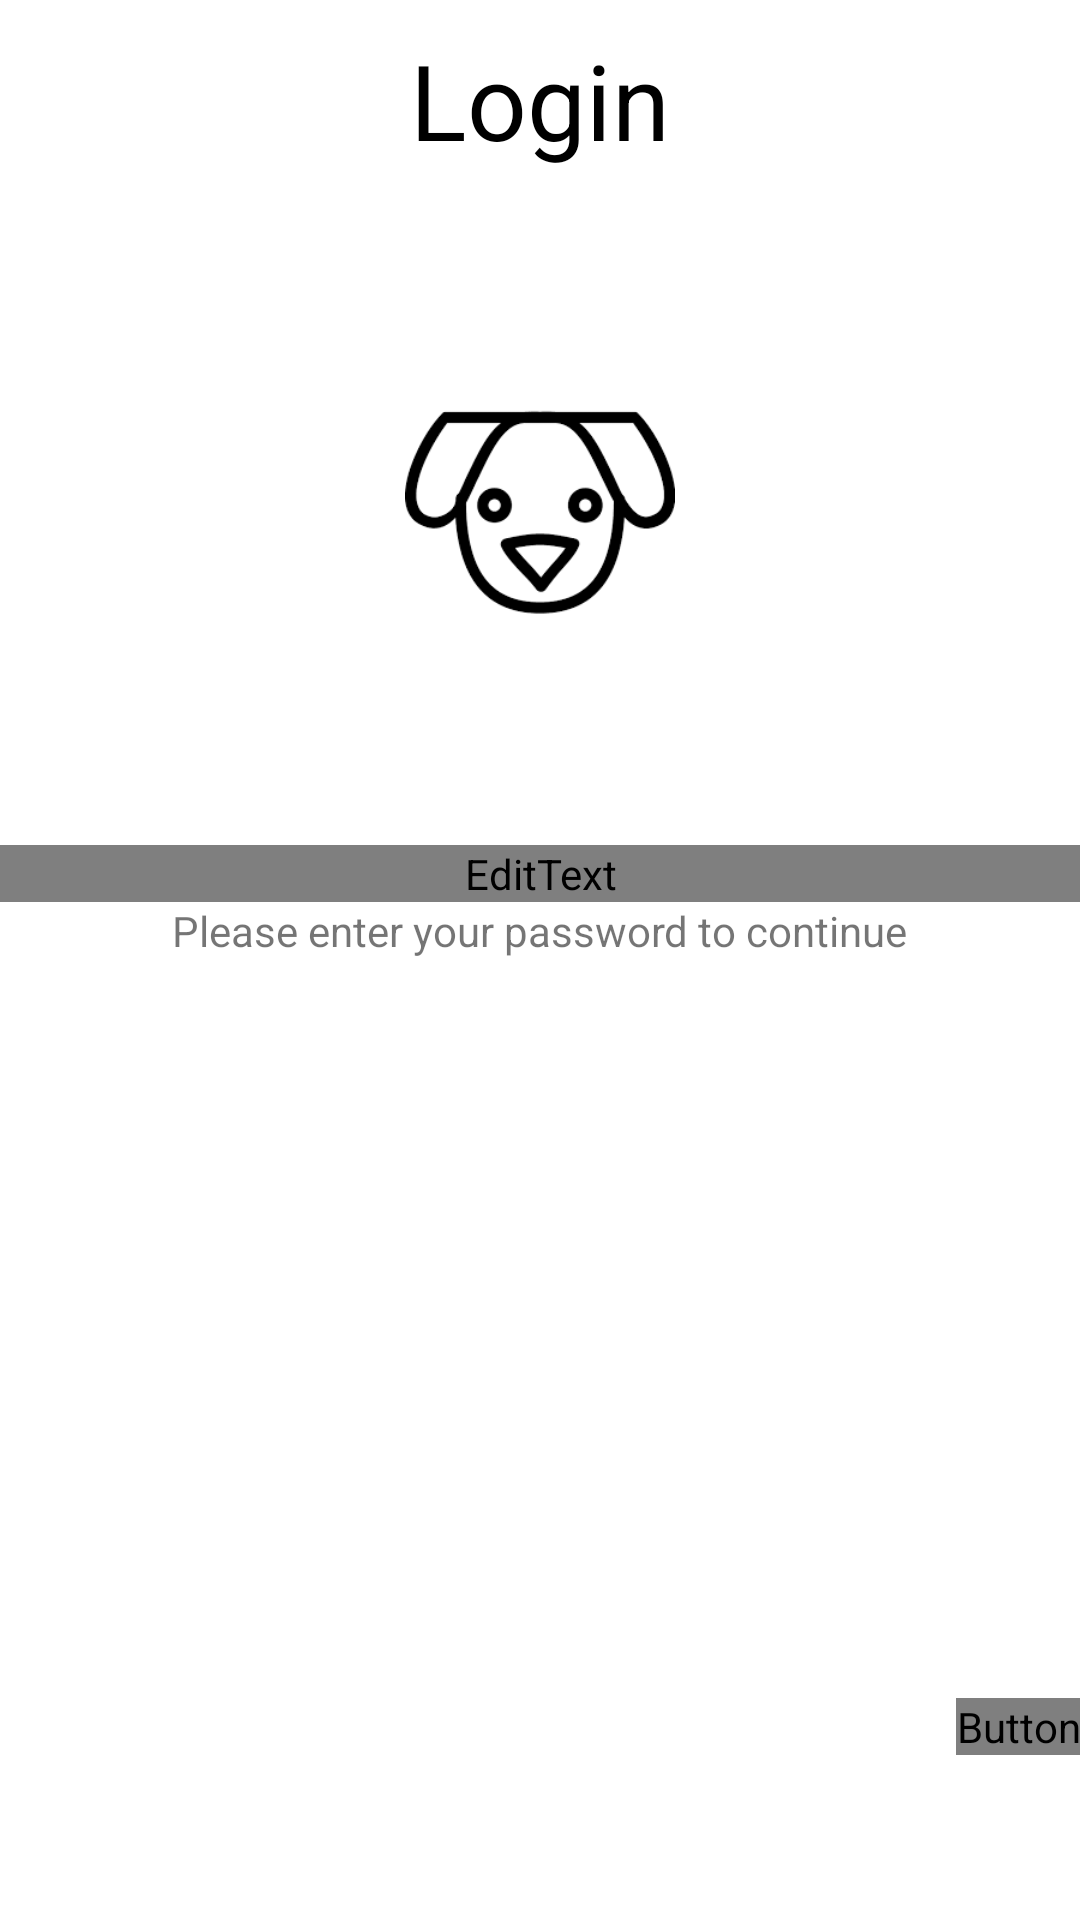

Named icons in this screenshot (1080x1920) and their centers, (x,y):
dog: (540,512)
